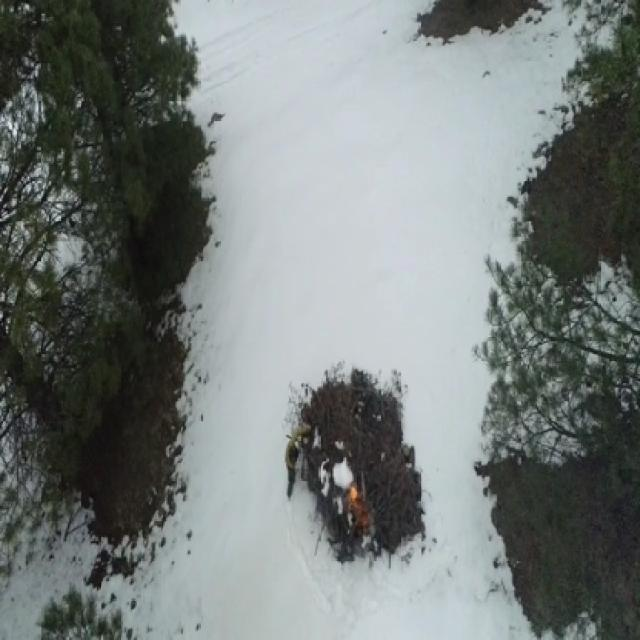Fire: (346, 483, 371, 534)
